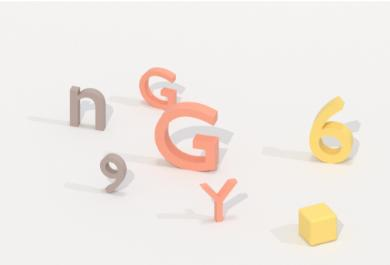0-KhoiVuong: (294, 199, 343, 250)
6: (305, 90, 358, 168)
9: (98, 149, 130, 196)
G: (153, 99, 223, 175), (135, 64, 180, 112)
Y: (196, 176, 239, 227)
n: (67, 81, 110, 135)
